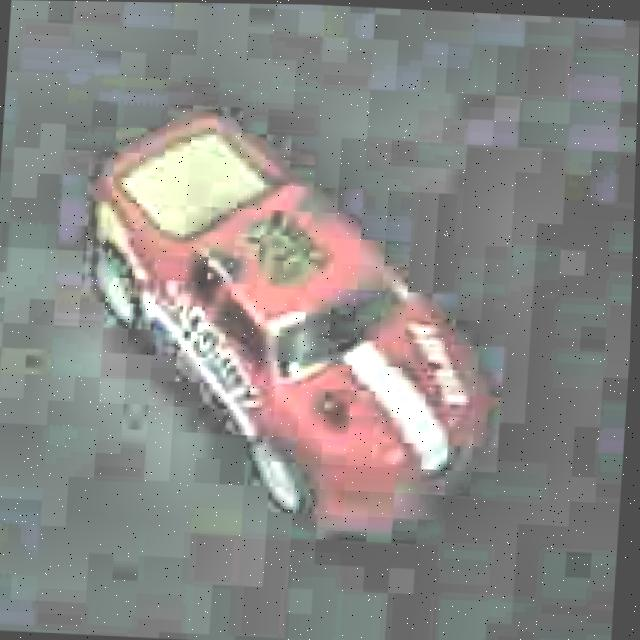car: (70, 102, 502, 543)
